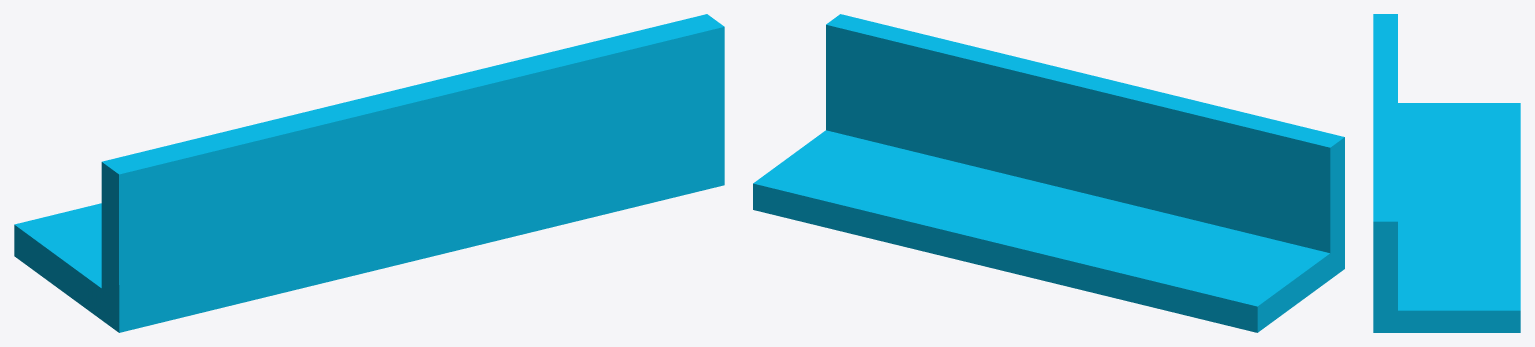
The model's file is ghe.fbx.
3 renders of one model, left to right at view 1: azimuth 30°, elevation 25°; view 2: azimuth 150°, elevation 25°; view 3: azimuth 270°, elevation 25°, orthographic. The views are drawn at different scales.
Visible parts, largest first — view 1: imagetostl_mesh1, imagetostl_mesh0; view 2: imagetostl_mesh1, imagetostl_mesh0; view 3: imagetostl_mesh0, imagetostl_mesh1.
Boxes of the visible parts, x1,y1,x2,y2 form: imagetostl_mesh1: (101, 14, 724, 332); imagetostl_mesh0: (14, 203, 101, 319); imagetostl_mesh1: (826, 14, 1344, 279); imagetostl_mesh0: (753, 130, 1330, 332); imagetostl_mesh0: (1398, 103, 1520, 332); imagetostl_mesh1: (1373, 14, 1397, 332).
Bounding box in the file's own units: 20 × 5 × 6.
